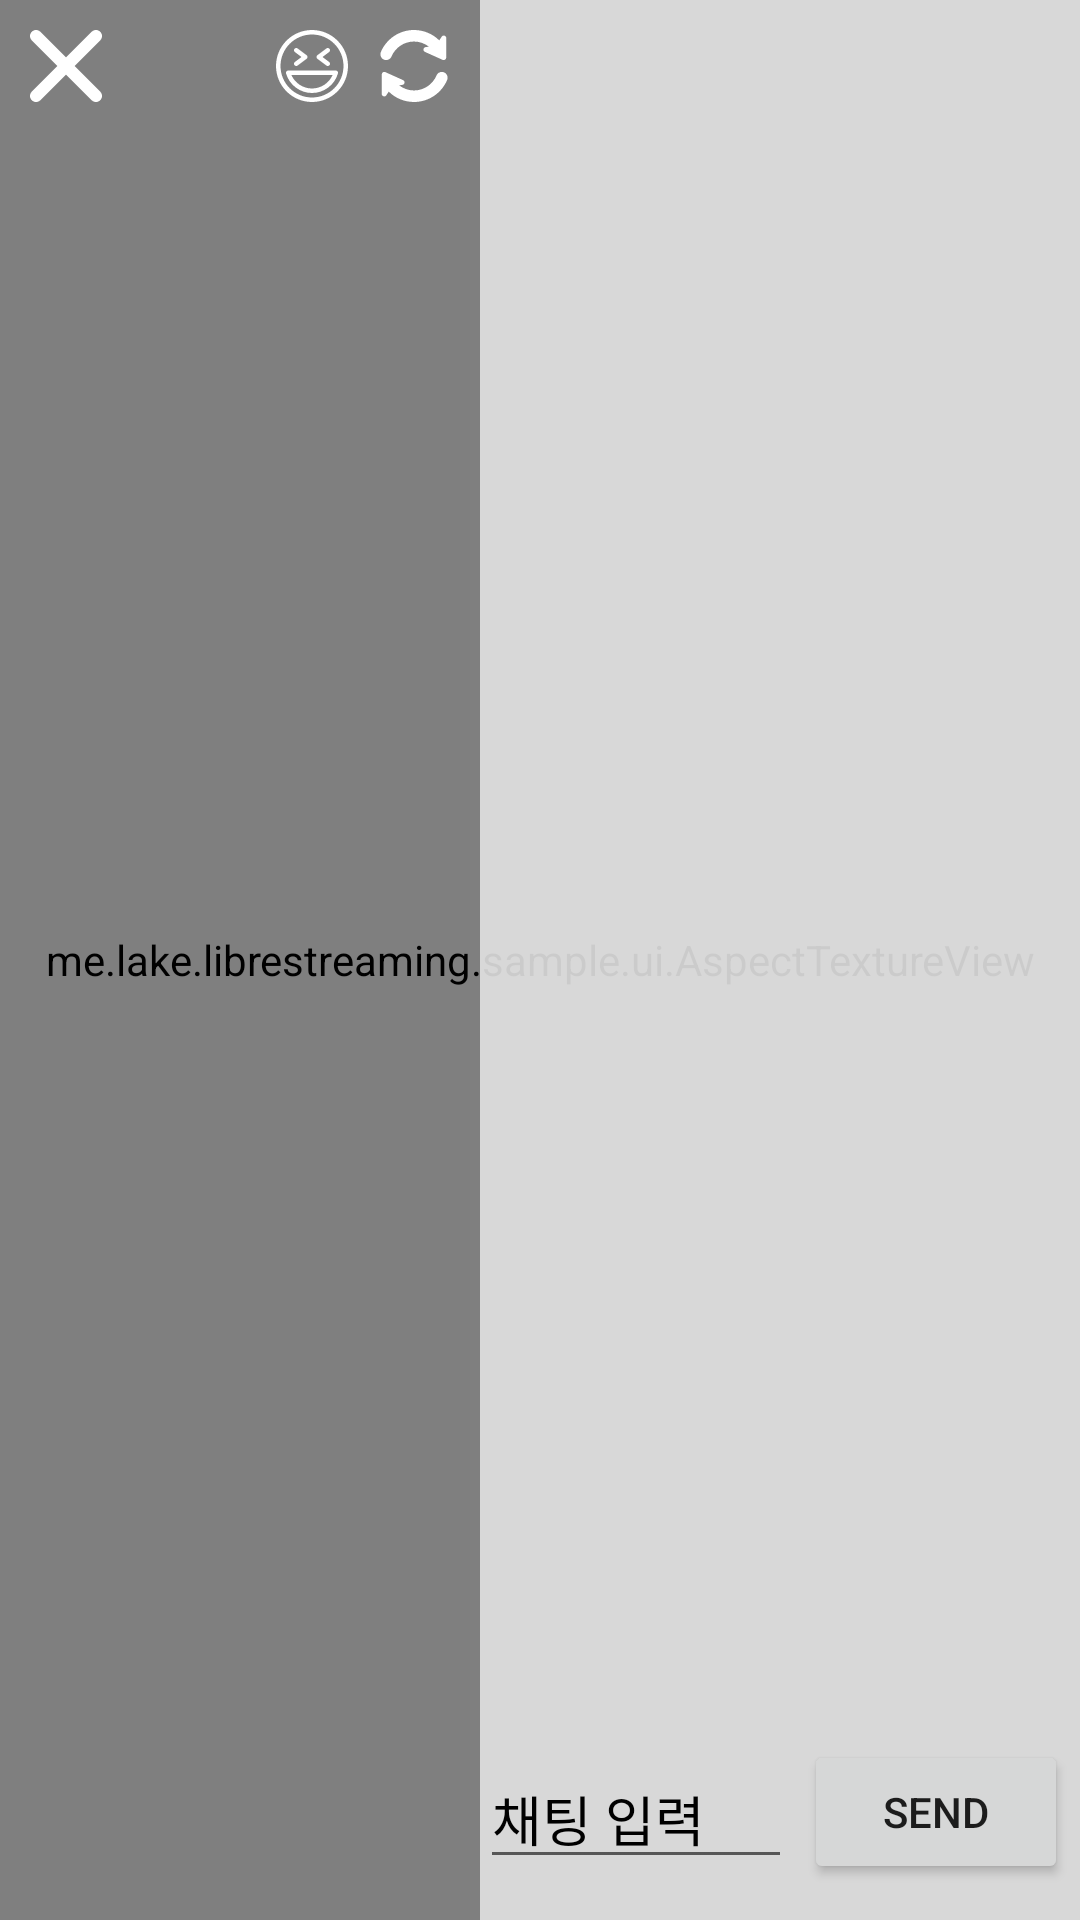

Screen size 1080 x 1920. Icon name, then its box in pixels as (x1, y1, x2, y2):
laughing: (276, 30, 348, 102)
refresh: (380, 30, 448, 102)
